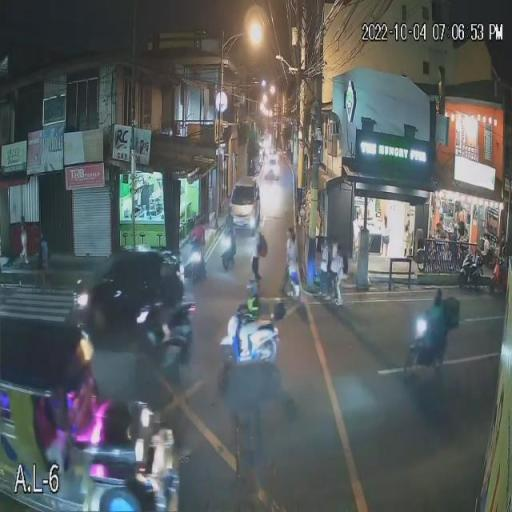helmet: (246, 279, 261, 295), (432, 288, 442, 301)
motorcycle: (218, 300, 286, 382), (150, 282, 198, 372), (400, 311, 453, 384), (457, 250, 490, 290), (183, 236, 208, 286), (490, 255, 506, 295), (219, 235, 239, 267)
rider: (226, 279, 284, 364), (415, 287, 453, 366), (154, 263, 191, 340), (186, 215, 208, 264), (224, 206, 237, 250)
